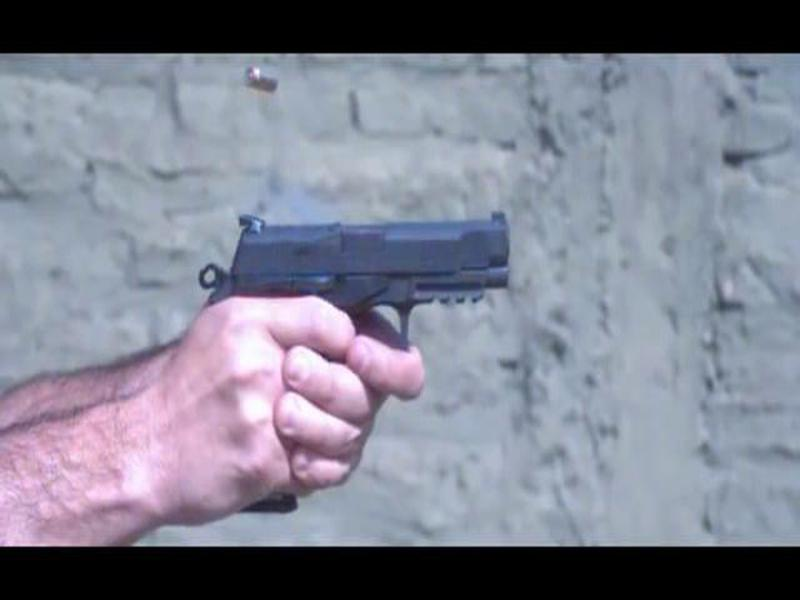Pistola: (190, 200, 532, 413)
